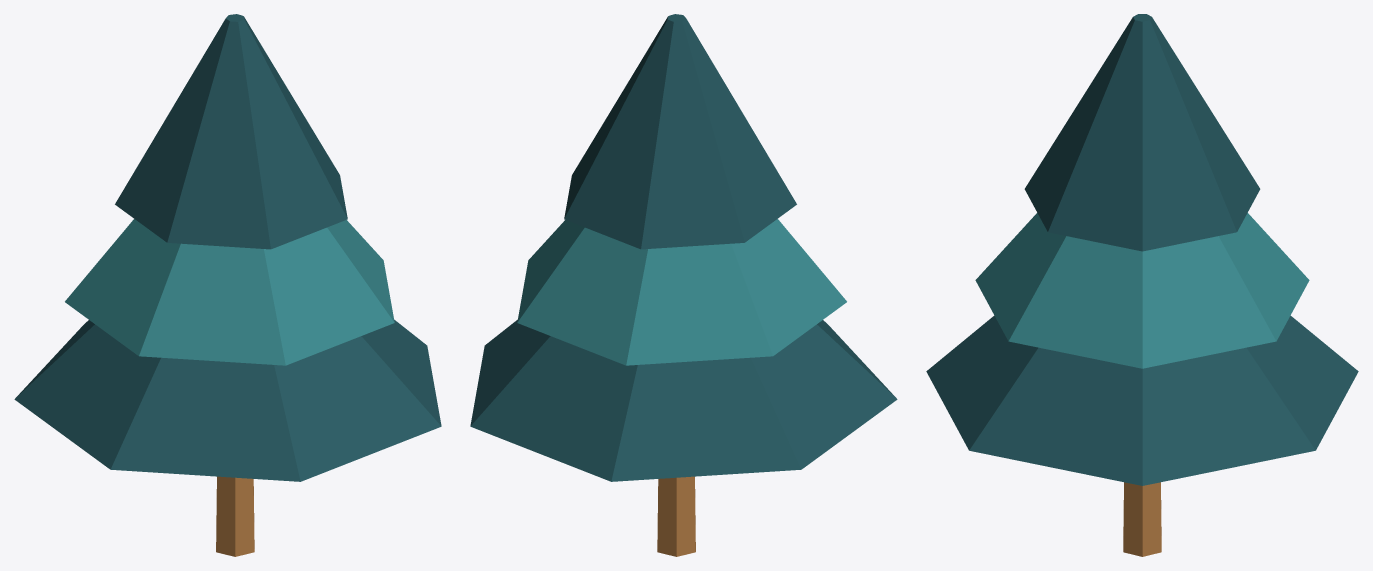
Rendered from WindpineCrown.obj.
The picture shows the model from 3 angles, left to right: view 1: azimuth 30°, elevation 25°; view 2: azimuth 150°, elevation 25°; view 3: azimuth 270°, elevation 25°; orthographic projection.
Bounding box in the file's own units: 4.18 × 5.8 × 4.29.
